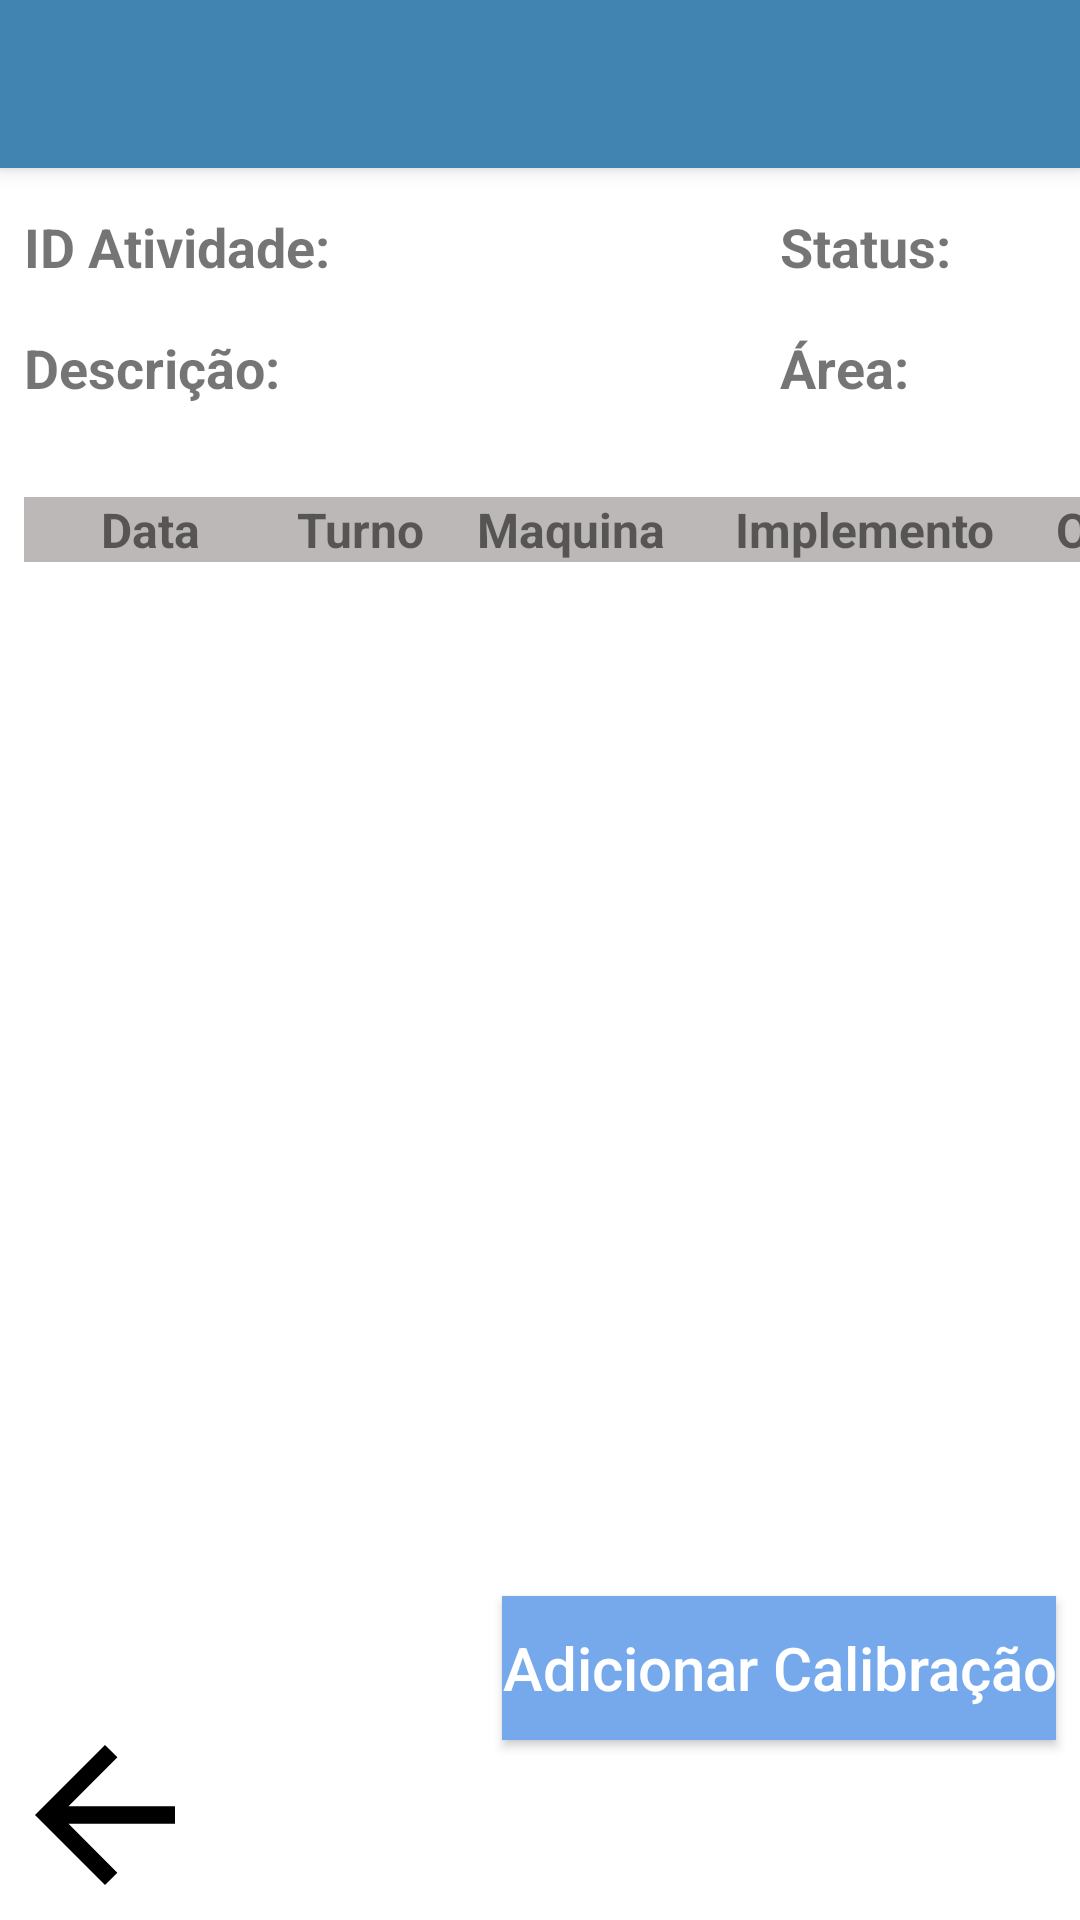

Locate icon controls on the screen. Image size 1080px x 1920px, boxes as [x1,y1,x2,y2].
voltar: [35,1745,175,1885]
